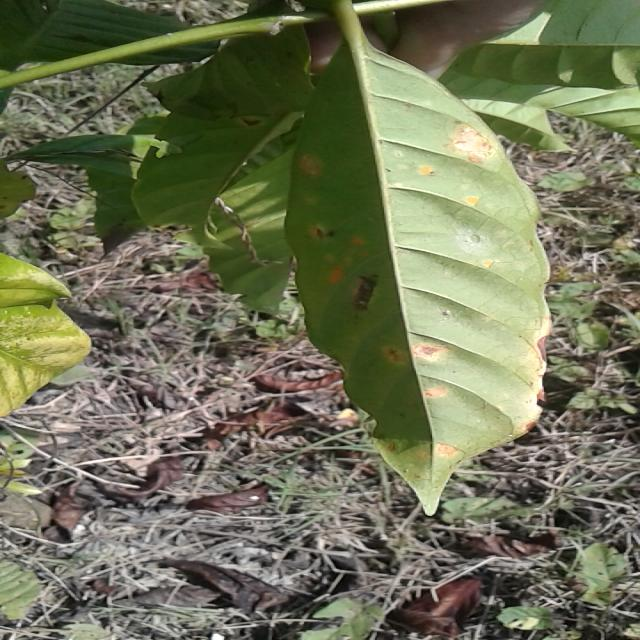Enfermedad-Roya: (296, 0, 552, 516)
